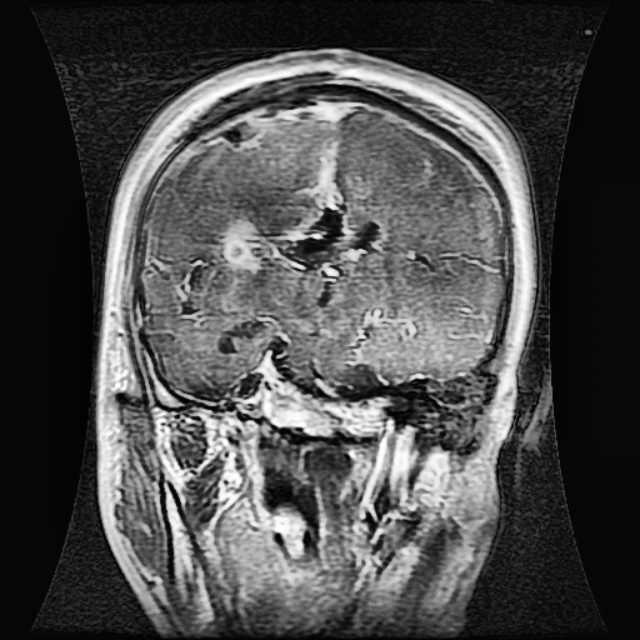Glioma: (220, 140, 390, 278)
